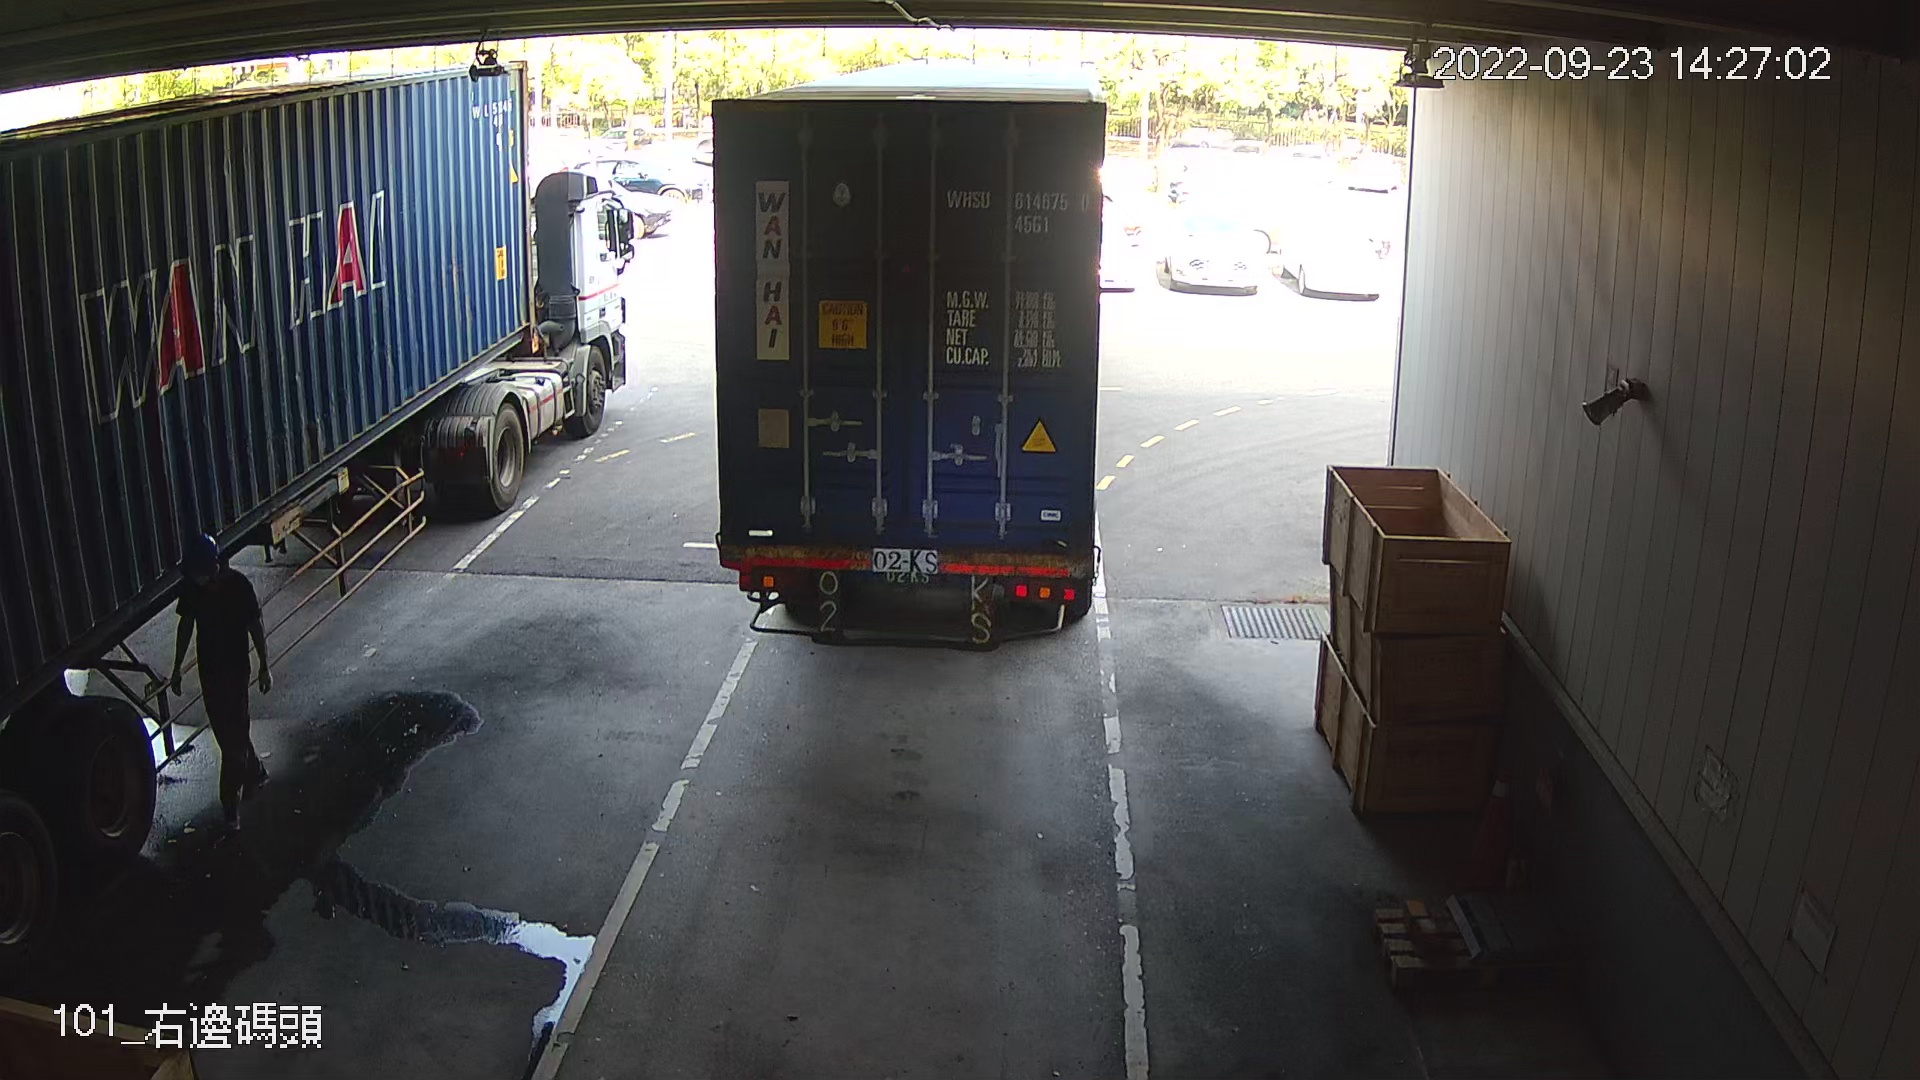container: (939, 182, 1098, 237)
